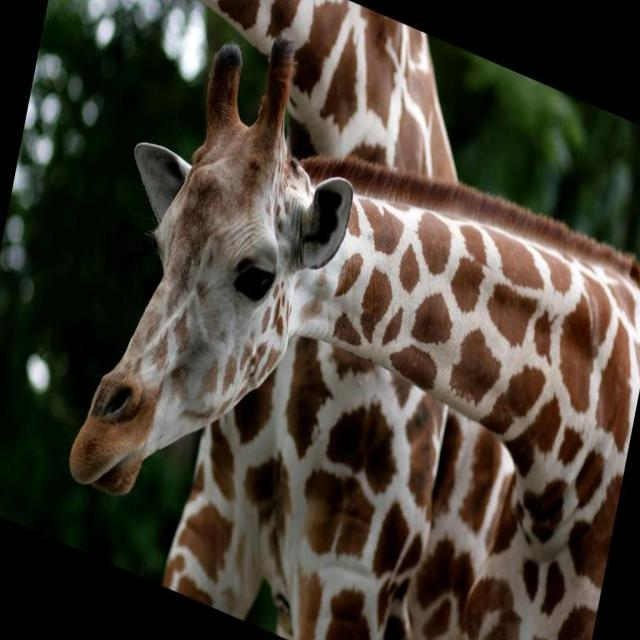Giraffe: (55, 21, 640, 562)
